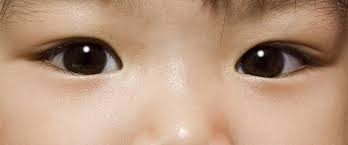pupil: (64, 40, 107, 74), (240, 49, 284, 76)
